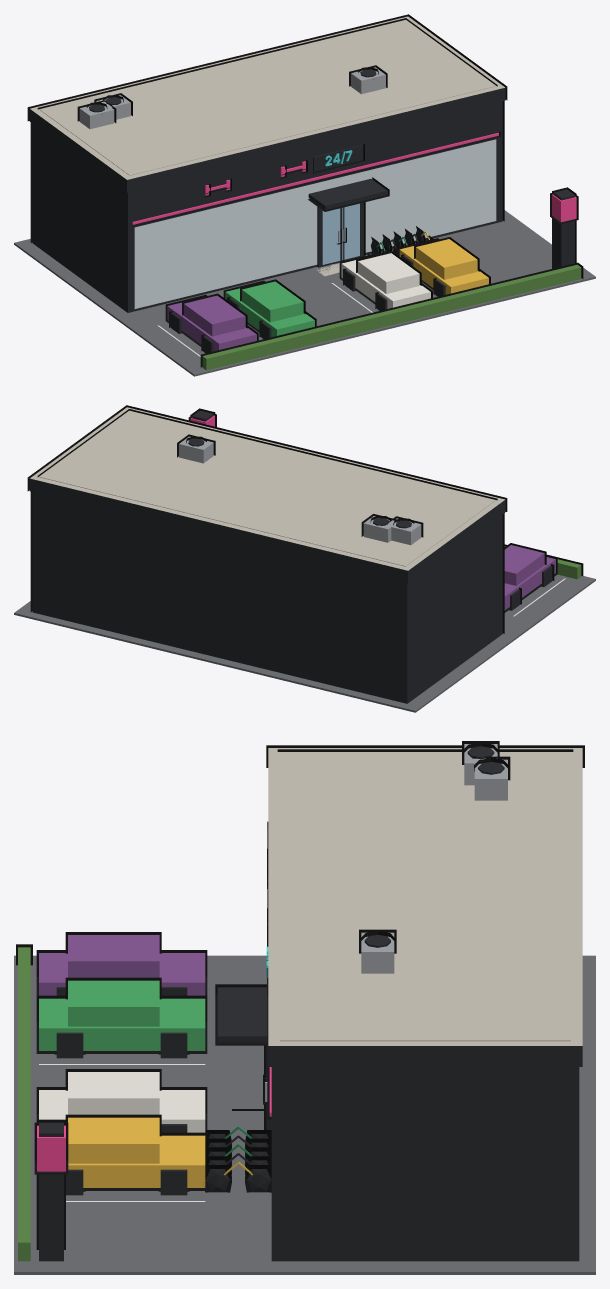
File: Dukkan_cadde_fitness.fbx
3 renders of one model, top to bottom at view 1: azimuth 30°, elevation 25°; view 2: azimuth 150°, elevation 25°; view 3: azimuth 270°, elevation 25°, orthographic. The views are drawn at different scales.
Parts seen in each view (by area): view 1: Dukkan_cadde_fitness; view 2: Dukkan_cadde_fitness; view 3: Dukkan_cadde_fitness.
Part boxes in pixels (x1,y1,x2,y2): Dukkan_cadde_fitness: [14, 14, 595, 376]; Dukkan_cadde_fitness: [14, 405, 595, 712]; Dukkan_cadde_fitness: [14, 741, 595, 1274].
Size of the model in its own units: 18 by 6.63 by 14.
